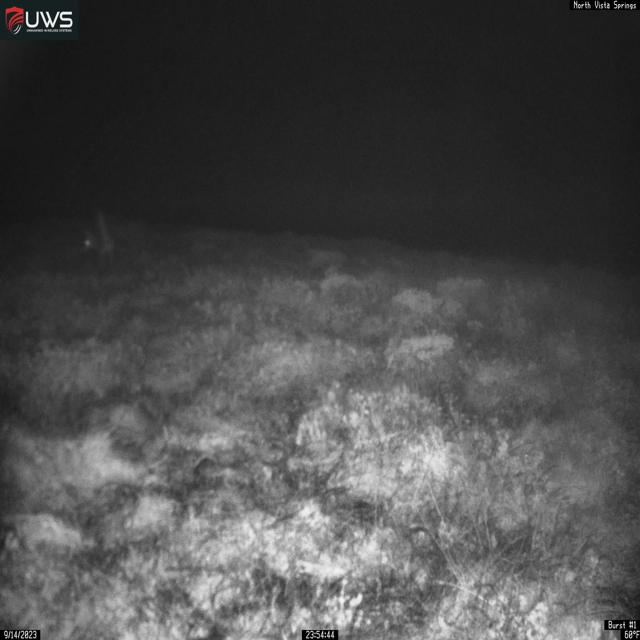coyote: (81, 208, 116, 271)
